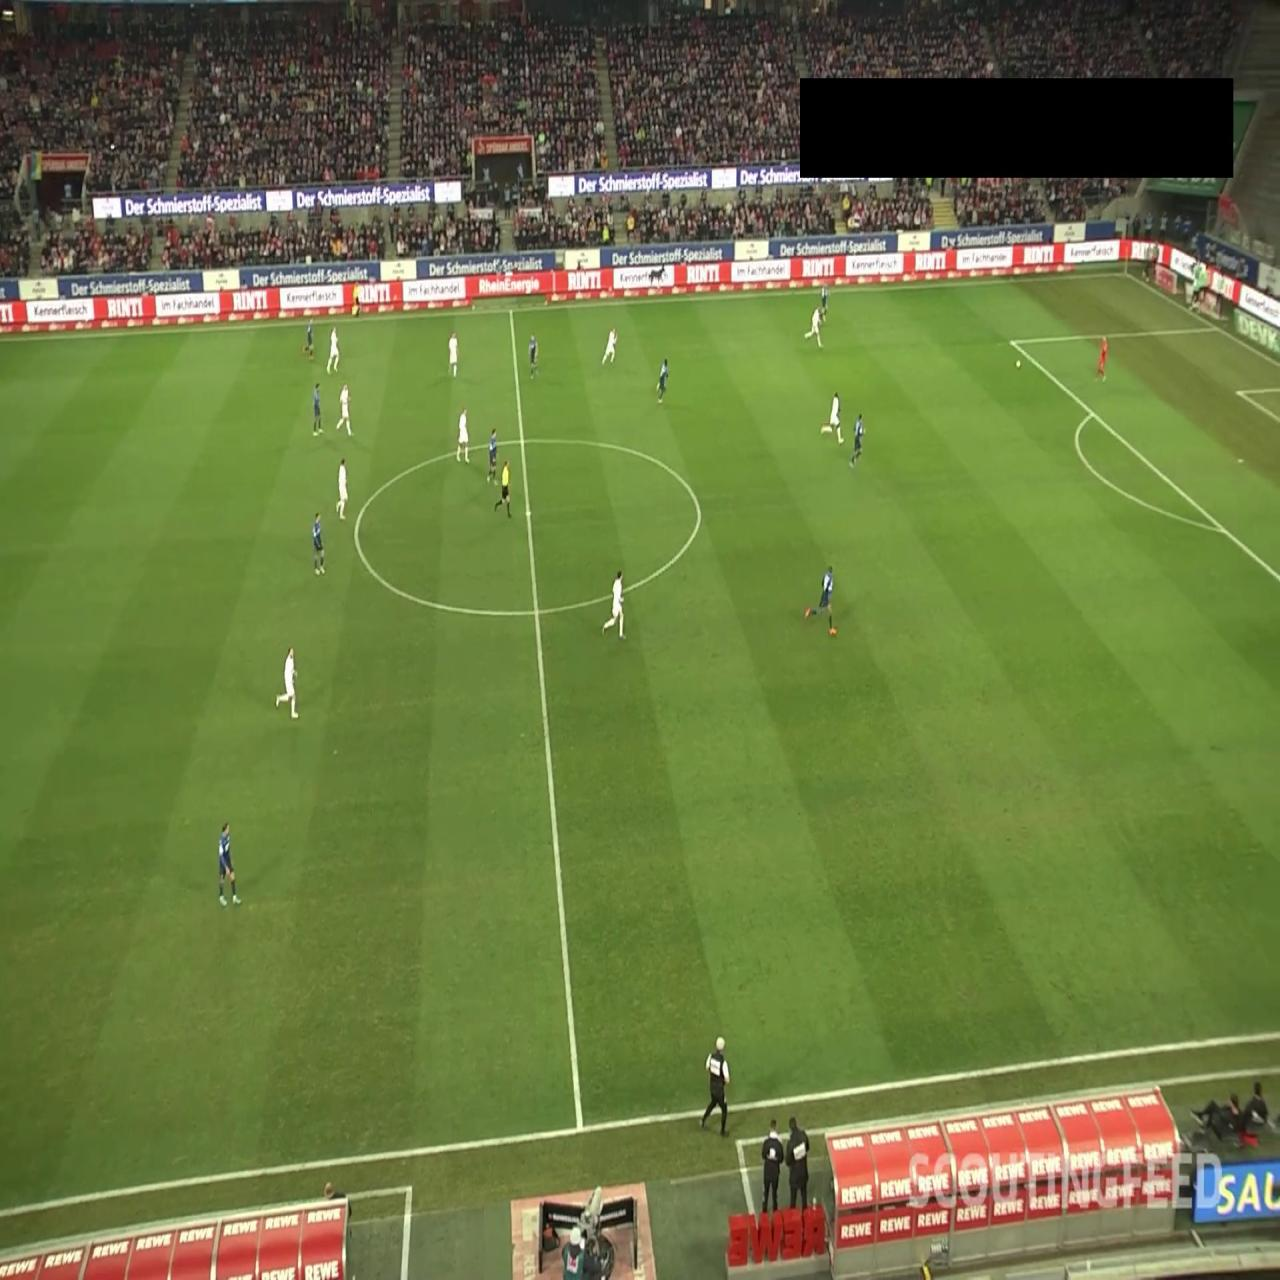ball: (1015, 358, 1021, 371)
goalkeeper: (1094, 336, 1108, 382)
player: (804, 566, 837, 636), (219, 821, 242, 907), (275, 646, 299, 718), (602, 569, 625, 640), (820, 391, 844, 446), (336, 382, 354, 436), (849, 411, 865, 468), (804, 306, 825, 348), (313, 511, 326, 576), (456, 406, 470, 464), (336, 458, 348, 520), (311, 382, 324, 438), (326, 327, 340, 373), (487, 426, 498, 484), (602, 327, 618, 365), (301, 317, 315, 359), (656, 357, 668, 403), (819, 281, 829, 324), (529, 332, 538, 379), (449, 331, 458, 377)
referee: (494, 455, 512, 518), (351, 280, 362, 319)
